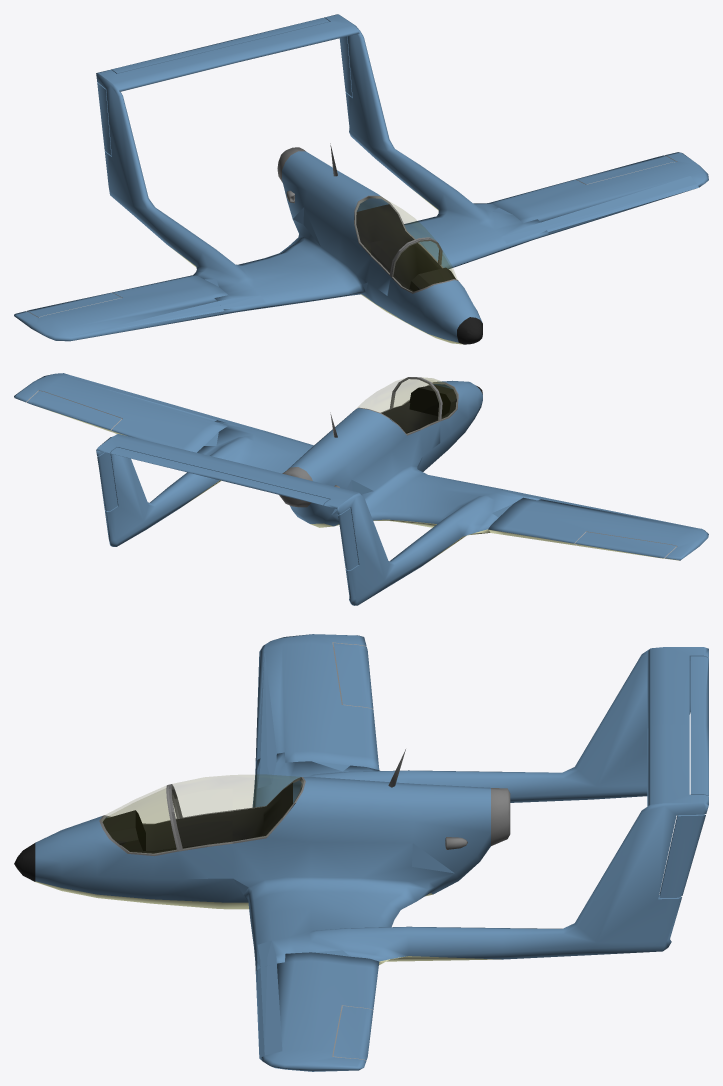
The model's file is aircraft_5_control_surfaces.glb.
3 renders of one model, top to bottom at view 1: azimuth 30°, elevation 25°; view 2: azimuth 150°, elevation 25°; view 3: azimuth 270°, elevation 25°, orthographic. The views are drawn at different scales.
Visible parts, largest first — view 1: body, outer wing left, outer wing right, elevator, canopy, aileron left, aileron right, instrument panel, rudder right; view 2: body, outer wing right, outer wing left, elevator, aileron left, aileron right, instrument panel, canopy, rudder right, rudder left; view 3: body, outer wing right, outer wing left, canopy, elevator, rudder left, aileron right, aileron left, instrument panel.
Boxes of the visible parts, x1=… form: body: x1=96, y1=14, x2=548, y2=344; outer wing left: x1=488, y1=152, x2=708, y2=235; outer wing right: x1=14, y1=275, x2=228, y2=341; elevator: x1=110, y1=18, x2=329, y2=73; canopy: x1=354, y1=195, x2=439, y2=275; aileron left: x1=575, y1=155, x2=676, y2=184; aileron right: x1=27, y1=292, x2=121, y2=317; instrument panel: x1=409, y1=267, x2=456, y2=291; rudder right: x1=97, y1=82, x2=111, y2=155; body: x1=96, y1=377, x2=545, y2=605; outer wing right: x1=488, y1=497, x2=708, y2=560; outer wing left: x1=14, y1=373, x2=228, y2=452; elevator: x1=110, y1=447, x2=329, y2=505; aileron left: x1=27, y1=391, x2=121, y2=432; aileron right: x1=575, y1=532, x2=676, y2=558; instrument panel: x1=409, y1=384, x2=456, y2=416; canopy: x1=358, y1=377, x2=441, y2=435; rudder right: x1=338, y1=508, x2=358, y2=569; rudder left: x1=97, y1=452, x2=117, y2=511; body: x1=14, y1=647, x2=708, y2=970; outer wing right: x1=255, y1=634, x2=379, y2=769; outer wing left: x1=255, y1=952, x2=379, y2=1071; canopy: x1=168, y1=775, x2=305, y2=849; elevator: x1=690, y1=656, x2=708, y2=795; rudder left: x1=659, y1=814, x2=705, y2=897; aileron right: x1=333, y1=643, x2=373, y2=709; aileron left: x1=333, y1=1006, x2=373, y2=1060; instrument panel: x1=102, y1=810, x2=145, y2=851.
Size of the model in its own units: 13.53 by 2.62 by 9.16.
